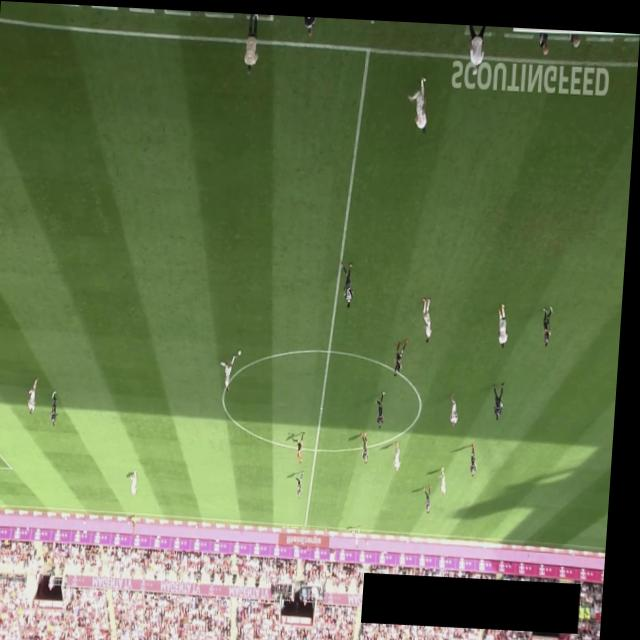player: (406, 70, 430, 129), (341, 256, 358, 304), (222, 350, 240, 389), (423, 291, 437, 338), (500, 296, 513, 342), (397, 334, 412, 372), (495, 376, 509, 415), (31, 375, 44, 414), (544, 298, 556, 340), (379, 386, 391, 424), (453, 386, 465, 421), (54, 389, 65, 425), (364, 427, 375, 459), (396, 436, 407, 466), (299, 466, 310, 495), (475, 436, 484, 471), (427, 479, 437, 508), (445, 461, 453, 492), (136, 468, 144, 496), (361, 520, 367, 542)
referee: (295, 427, 310, 460), (135, 510, 145, 536)
